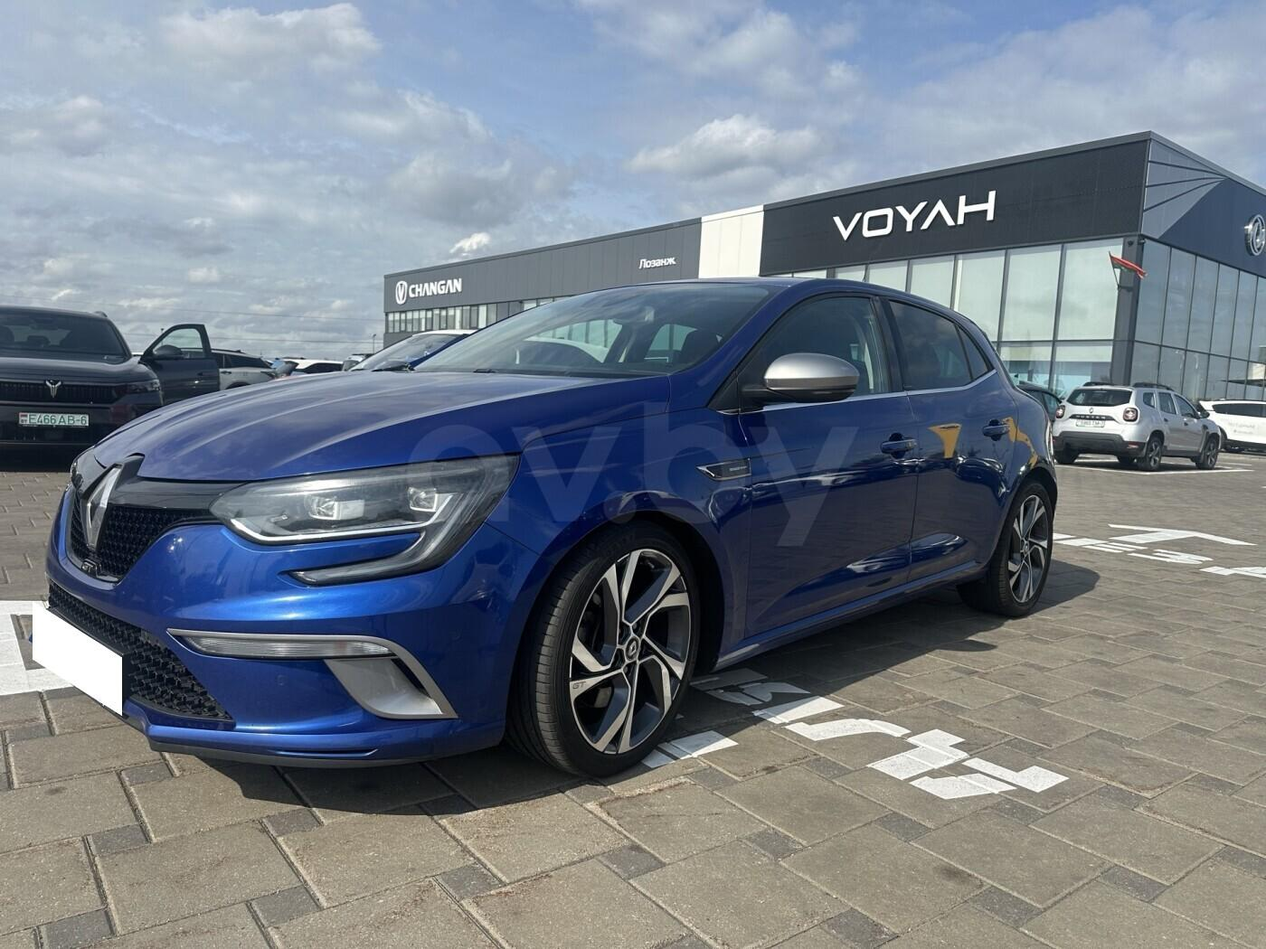Megane_2016-2020: (41, 274, 1064, 801)
